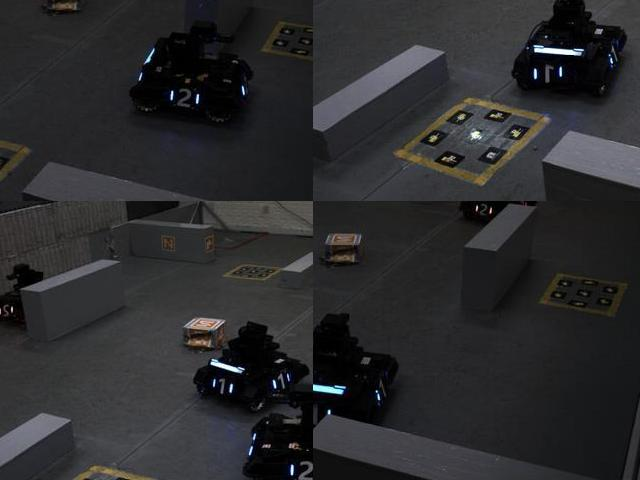armor: (530, 56, 575, 91), (166, 82, 205, 115), (598, 39, 627, 72), (372, 366, 392, 410), (313, 397, 337, 432), (266, 365, 295, 393), (209, 373, 237, 401), (285, 459, 312, 479), (471, 201, 495, 221), (0, 301, 18, 322)
